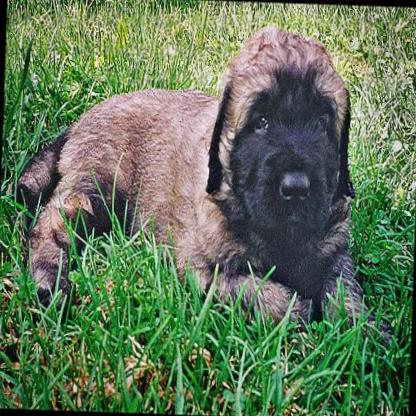Leonberg: (16, 19, 404, 356)
